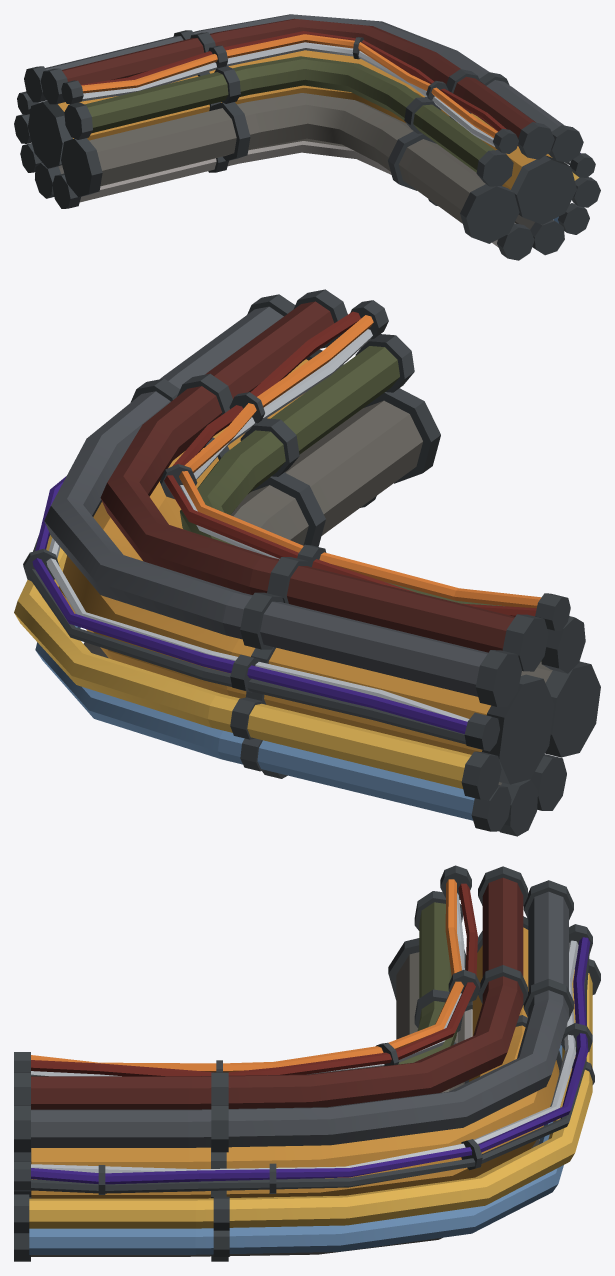
File: SM_Bld_Pipe_Large_Group_Turn_01.fbx
The picture shows the model from 3 angles, top to bottom: view 1: azimuth 30°, elevation 25°; view 2: azimuth 150°, elevation 25°; view 3: azimuth 270°, elevation 25°; orthographic projection. The views are drawn at different scales.
Visible parts, largest first — view 1: SM_Bld_Pipe_Large_Group_Turn_01; view 2: SM_Bld_Pipe_Large_Group_Turn_01; view 3: SM_Bld_Pipe_Large_Group_Turn_01.
Part boxes in pixels (<box>): SM_Bld_Pipe_Large_Group_Turn_01: <box>14,14,600,260</box>; SM_Bld_Pipe_Large_Group_Turn_01: <box>14,289,600,836</box>; SM_Bld_Pipe_Large_Group_Turn_01: <box>14,865,600,1261</box>.
Bounding box in the file's own units: 306 × 103 × 306.
